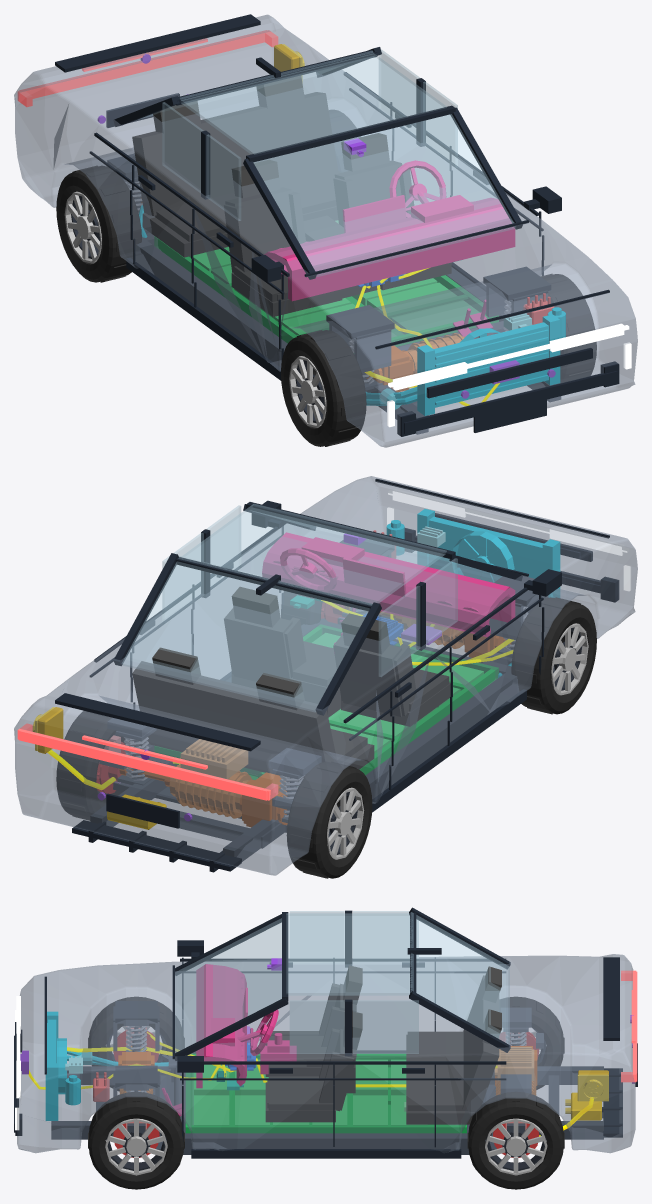
The model's file is car.glb.
3 views of the same model, one above another, from view 1: azimuth 30°, elevation 25°; view 2: azimuth 150°, elevation 25°; view 3: azimuth 270°, elevation 25° (orthographic). The views are drawn at different scales.
Parts seen in each view (by area): view 1: VEH, DECOR_canopy, DECOR_seat_rear, HMI, DECOR_trim, DECOR_chassis, DECOR_wheel_FR, DECOR_wheel_RR, DECOR_seat_R, THERMAL, BAT_MODULE, DECOR_grille (+11 smaller); view 2: VEH, DECOR_canopy, DECOR_trim, DECOR_seat_rear, HMI, DECOR_chassis, DECOR_wheel_RR, DECOR_wheel_FR, DECOR_seat_R, DECOR_seat_L, THERMAL, DECOR_taillights (+15 smaller); view 3: VEH, DECOR_canopy, DECOR_chassis, DECOR_trim, DECOR_seat_rear, DECOR_wheel_RL, DECOR_wheel_FL, BAT_MODULE, HMI, DECOR_seat_L, ENERGY, THERMAL (+16 smaller).
Boxes of the visible parts, x1,y1,x2,y2 form: VEH: (14, 14, 637, 447); DECOR_canopy: (113, 47, 522, 279); DECOR_seat_rear: (132, 75, 340, 257); HMI: (264, 160, 515, 338); DECOR_trim: (55, 14, 609, 432); DECOR_chassis: (107, 154, 560, 434); DECOR_wheel_FR: (281, 330, 366, 446); DECOR_wheel_RR: (56, 166, 141, 282); DECOR_seat_R: (224, 159, 342, 316); THERMAL: (139, 205, 565, 415); BAT_MODULE: (189, 247, 479, 336); DECOR_grille: (397, 347, 619, 436); VEH: (14, 476, 637, 875); DECOR_canopy: (113, 502, 522, 715); DECOR_trim: (55, 478, 609, 872); DECOR_seat_rear: (132, 647, 374, 777); HMI: (262, 532, 515, 643); DECOR_chassis: (90, 539, 547, 861); DECOR_wheel_RR: (287, 762, 372, 878); DECOR_wheel_FR: (511, 597, 596, 714); DECOR_seat_R: (333, 613, 450, 726); DECOR_seat_L: (224, 587, 331, 688); THERMAL: (386, 509, 560, 677); DECOR_taillights: (17, 723, 278, 800); VEH: (17, 954, 635, 1153); DECOR_canopy: (175, 907, 510, 1060); DECOR_chassis: (51, 1001, 603, 1154); DECOR_trim: (44, 948, 637, 1158); DECOR_seat_rear: (406, 966, 501, 1124); DECOR_wheel_RL: (467, 1092, 564, 1189); DECOR_wheel_FL: (88, 1092, 184, 1189); BAT_MODULE: (194, 1059, 426, 1125); HMI: (162, 964, 296, 1116); DECOR_seat_L: (265, 1011, 362, 1122); ENERGY: (185, 1053, 466, 1133); THERMAL: (45, 1011, 168, 1120).
Bounding box in the file's own units: 2.05 × 1.47 × 4.44.
